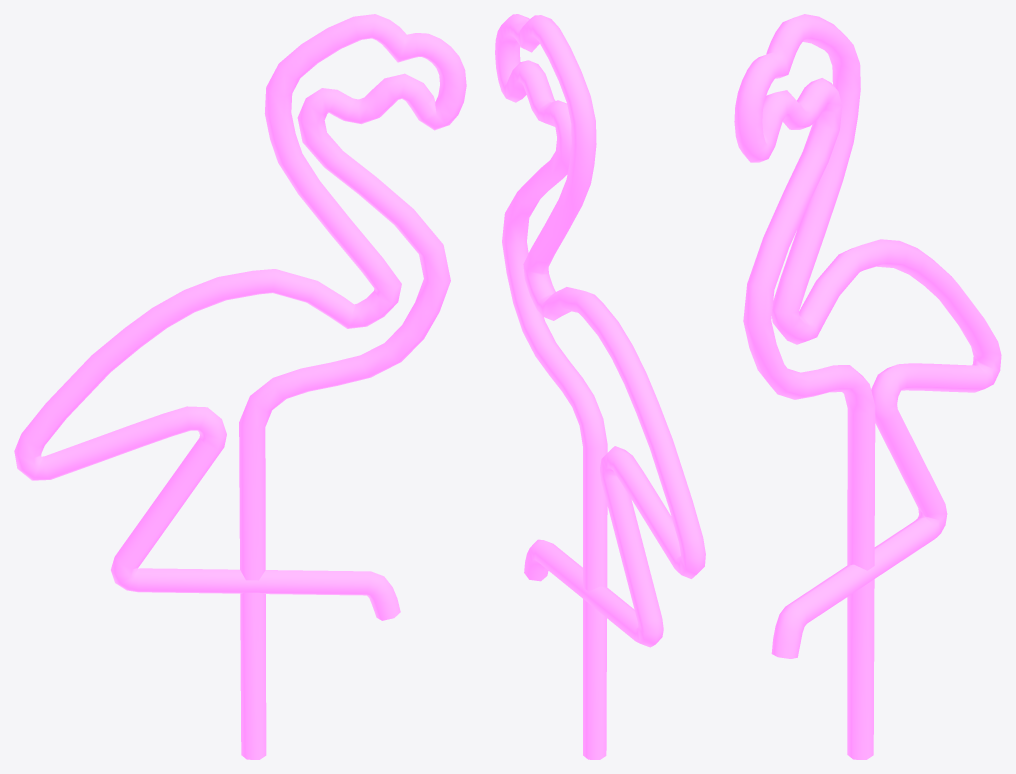
File: FX_CP_Led_Object.fbx
3 renders of one model, left to right at view 1: azimuth 30°, elevation 25°; view 2: azimuth 150°, elevation 25°; view 3: azimuth 270°, elevation 25°, orthographic. The views are drawn at different scales.
Visible parts, largest first — view 1: FX_CP_Led_Object; view 2: FX_CP_Led_Object; view 3: FX_CP_Led_Object.
Boxes of the visible parts, box(x1,y1,x2,y2) form: FX_CP_Led_Object: box(14, 14, 466, 759); FX_CP_Led_Object: box(495, 14, 705, 759); FX_CP_Led_Object: box(734, 14, 1001, 759).
Bounding box in the file's own units: 13.41 × 28.66 × 8.87.
